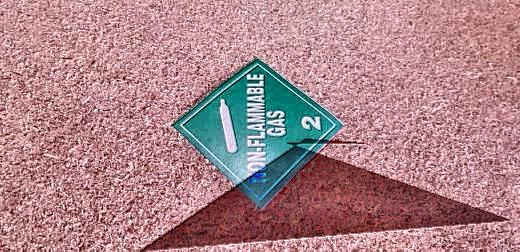non-flammable-gas: (166, 55, 345, 206)
